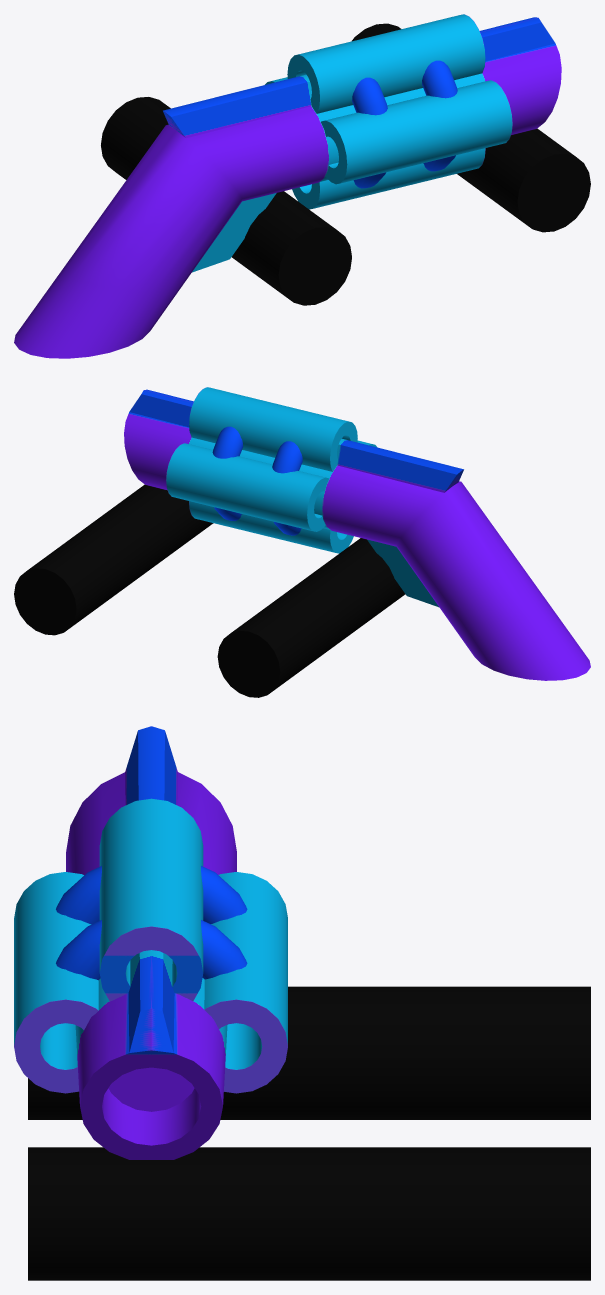
File: SM_Wall_Gun_3.fbx
3 renders of one model, top to bottom at view 1: azimuth 30°, elevation 25°; view 2: azimuth 150°, elevation 25°; view 3: azimuth 270°, elevation 25°, orthographic. The views are drawn at different scales.
Visible parts, largest first — view 1: group2_pasted__pCylinder4; view 2: group2_pasted__pCylinder4; view 3: group2_pasted__pCylinder4.
Boxes of the visible parts, x1,y1,x2,y2 form: group2_pasted__pCylinder4: (14,14,590,358); group2_pasted__pCylinder4: (14,387,590,697); group2_pasted__pCylinder4: (14,726,590,1280).
Bounding box in the file's own units: 24.53 × 9.83 × 14.53.
4 materials, 2 textured.
